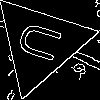U: (15, 19, 73, 68)
